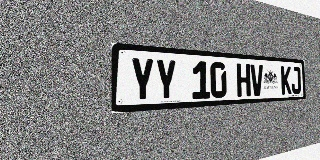0: (210, 62, 227, 98)
1: (192, 61, 210, 99)
H: (236, 63, 251, 97)
J: (291, 67, 301, 94)
K: (281, 66, 291, 95)
V: (250, 64, 263, 96)
Y: (130, 57, 154, 102), (155, 58, 177, 101)
